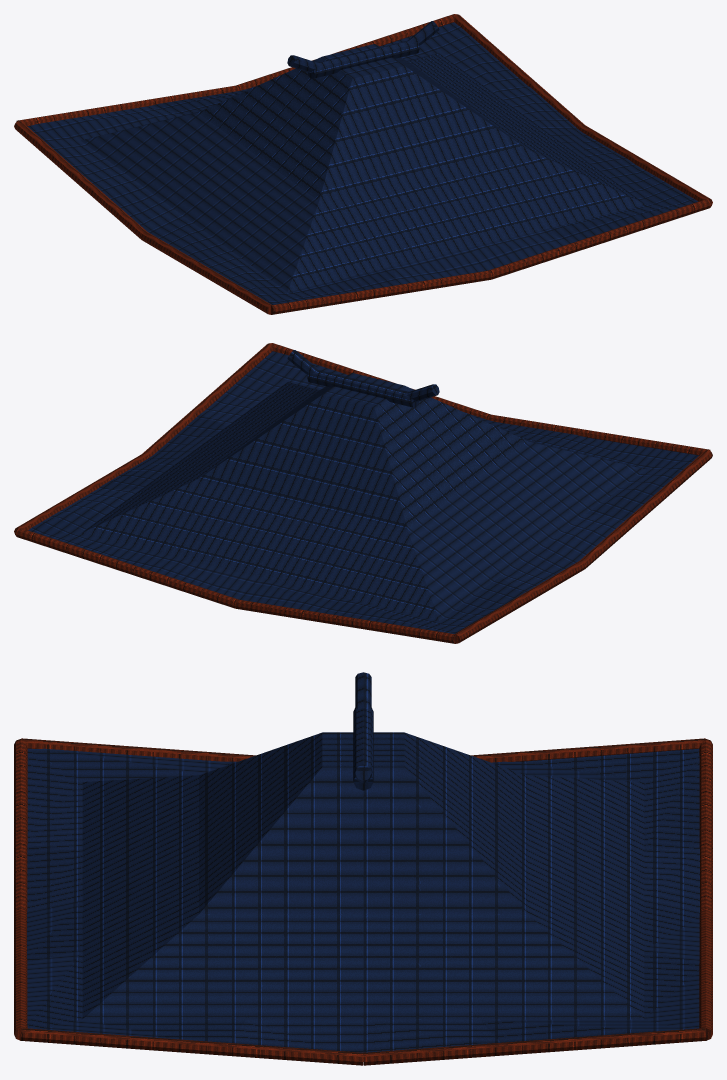
File: roof.glb
3 views of the same model, one above another, from view 1: azimuth 30°, elevation 25°; view 2: azimuth 150°, elevation 25°; view 3: azimuth 270°, elevation 25° (orthographic). The views are drawn at different scales.
Parts seen in each view (by area): view 1: Body; view 2: Body; view 3: Body.
Boxes of the visible parts, box(x1,y1,x2,y2) form: Body: box(14, 14, 712, 314); Body: box(14, 343, 712, 643); Body: box(14, 672, 712, 1065).
Size of the model in its own units: 10.2 by 3.26 by 10.2.
Materials: 2 (2 with a texture image).
